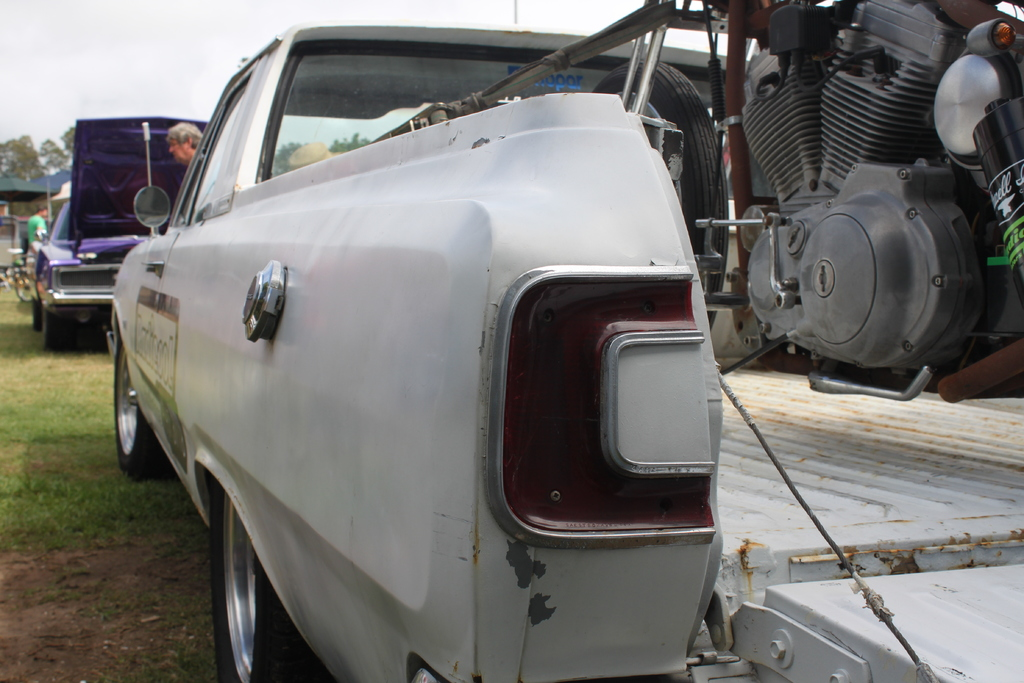Car: (31, 112, 208, 354)
